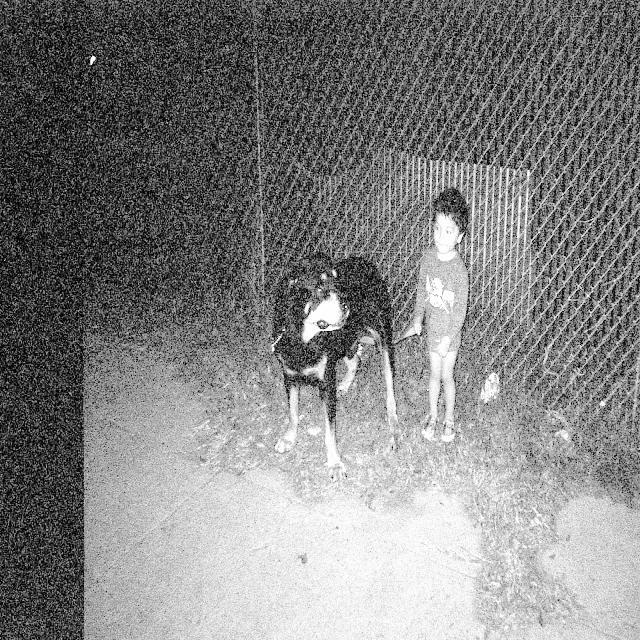Dog: (271, 247, 404, 473)
Person: (406, 185, 476, 452)
